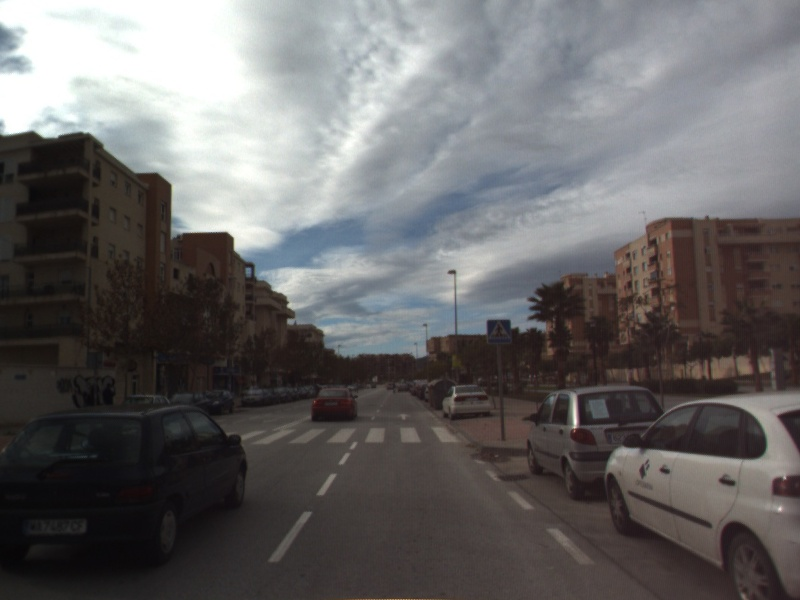STRAIGHT: (395, 411, 413, 422)
